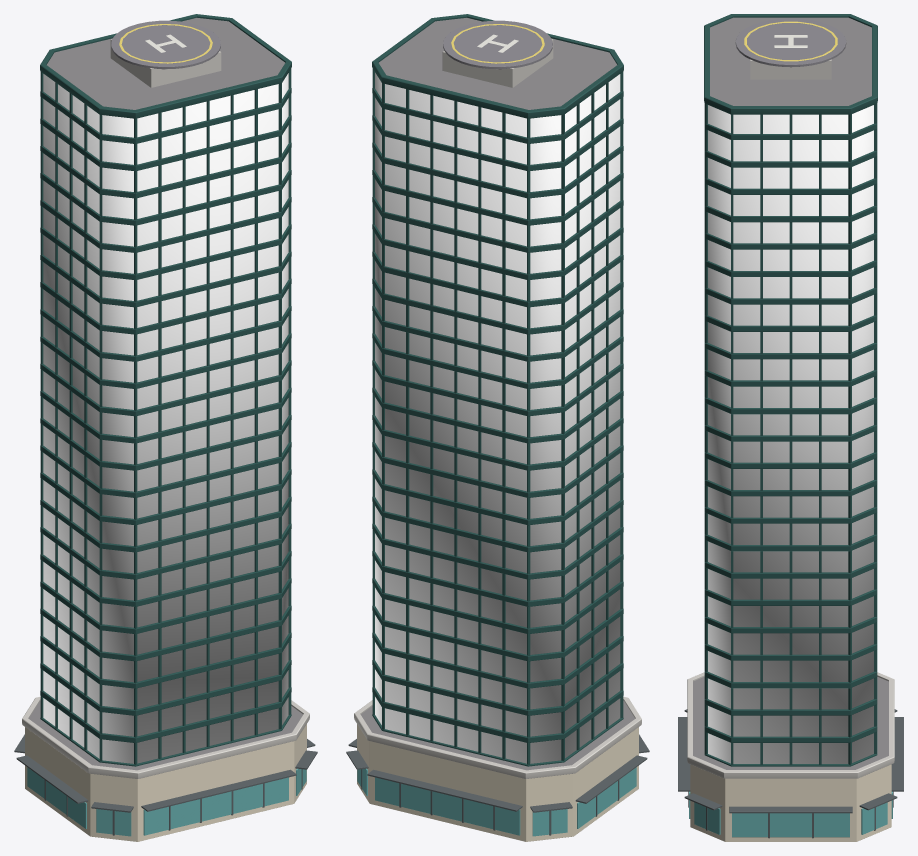
File: tower_helipad.glb
3 renders of one model, left to right at view 1: azimuth 30°, elevation 25°; view 2: azimuth 150°, elevation 25°; view 3: azimuth 270°, elevation 25°, orthographic.
Parts seen in each view (by area): view 1: curtain, tower trim, mullions, tower props; view 2: curtain, tower trim, mullions, tower props; view 3: curtain, tower trim, mullions, tower props.
Part boxes in pixels (box(x1,y1,x2,y2)): curtain: box(43, 73, 288, 763); tower trim: box(22, 14, 309, 841); mullions: box(40, 69, 302, 835); tower props: box(14, 20, 317, 836); curtain: box(375, 72, 620, 763); tower trim: box(354, 14, 641, 841); mullions: box(361, 69, 623, 835); tower props: box(346, 20, 649, 836); curtain: box(708, 105, 873, 763); tower trim: box(687, 14, 894, 841); mullions: box(688, 103, 893, 838); tower props: box(678, 18, 903, 837).
Bounding box in the file's own units: 32.9 × 98.2 × 26.9.
